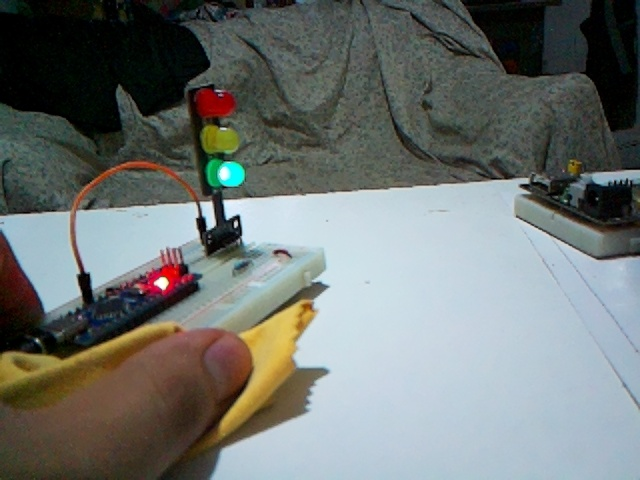traffic_light_green: (189, 86, 244, 255), (188, 84, 244, 193), (189, 85, 244, 193)
